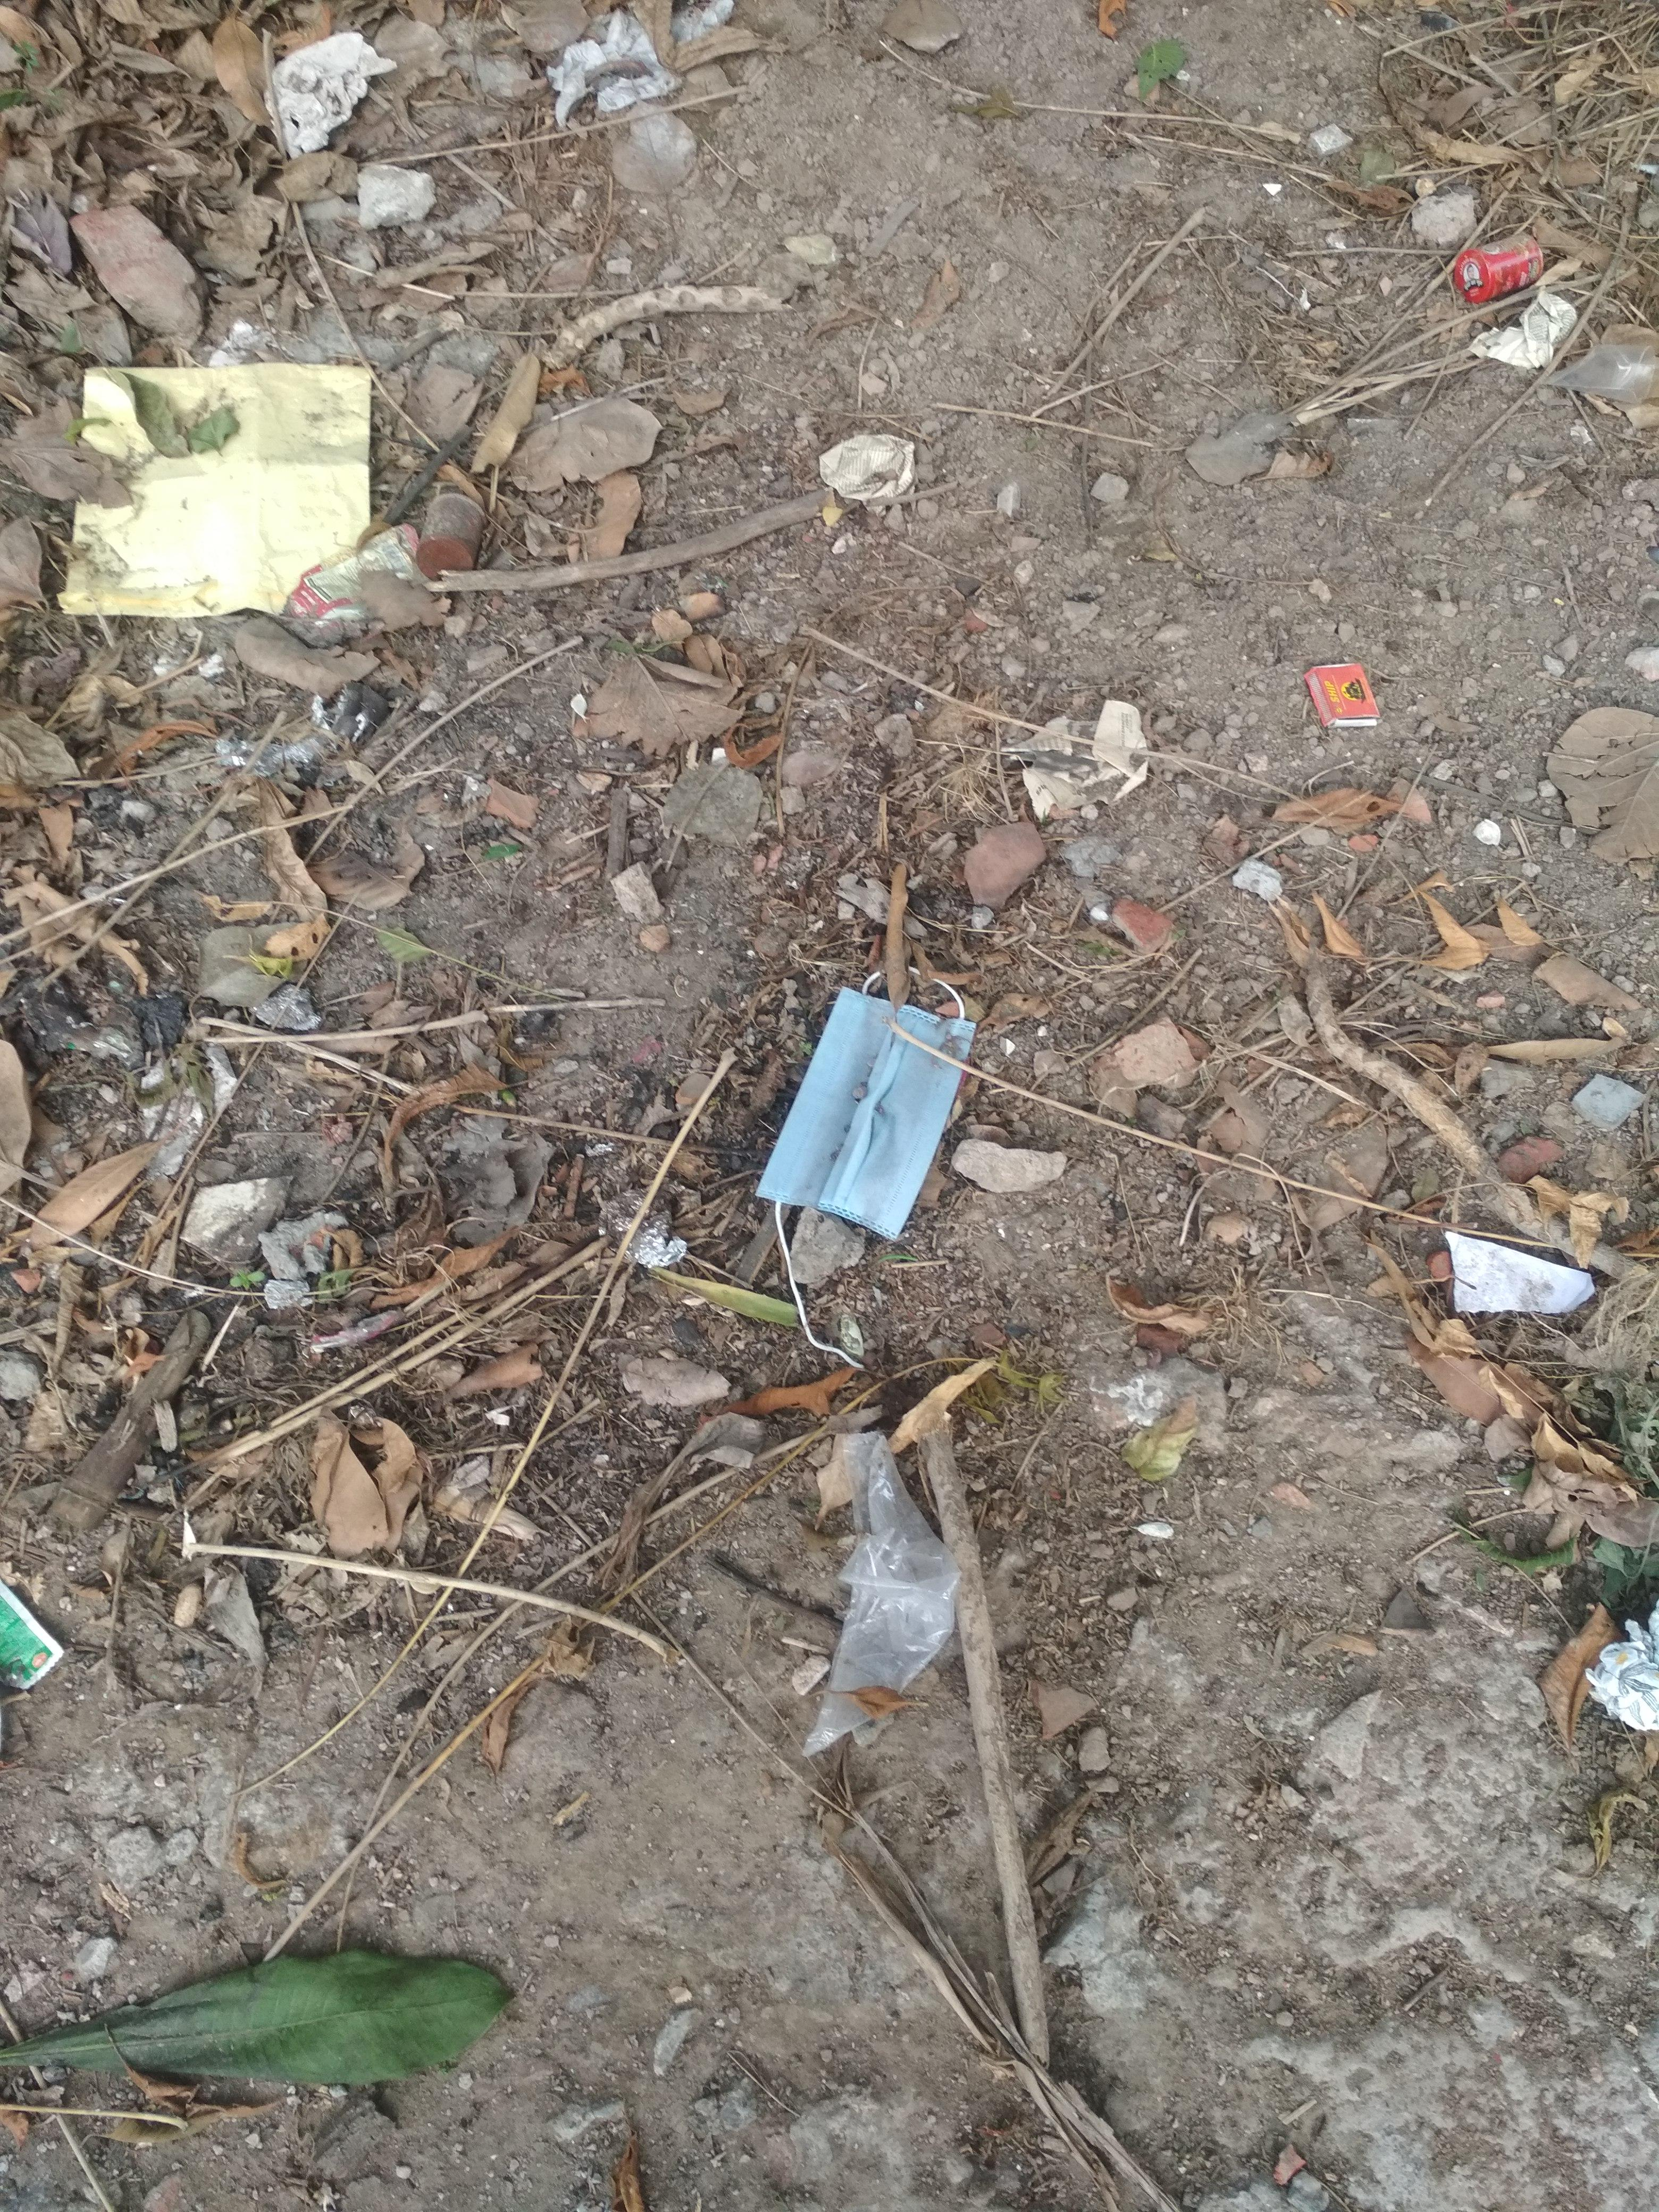organic: (725, 965, 1026, 1759)
